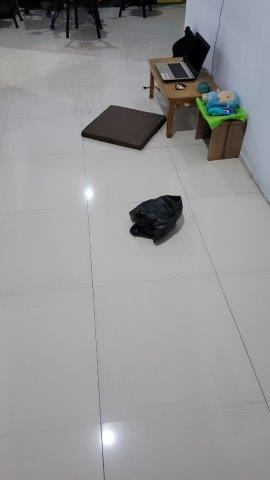plastik: (127, 194, 184, 244)
